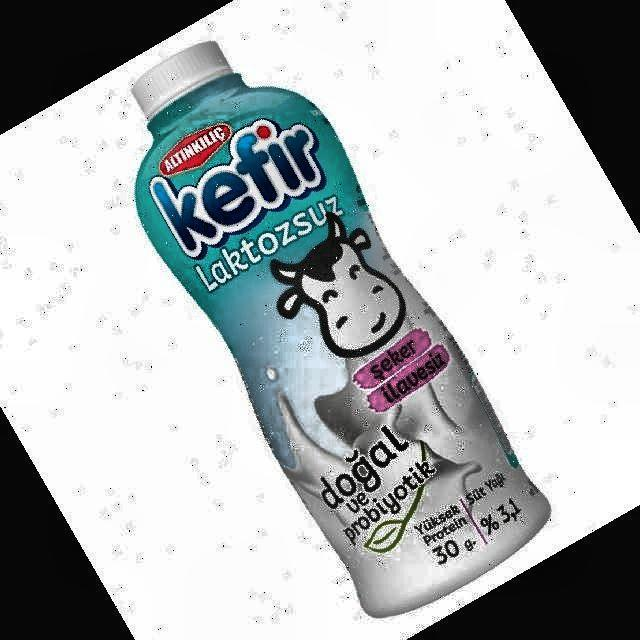plastic: (134, 42, 550, 616)
